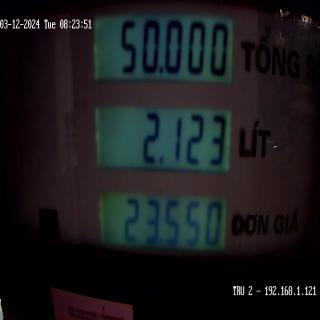screen: (90, 3, 238, 286)
